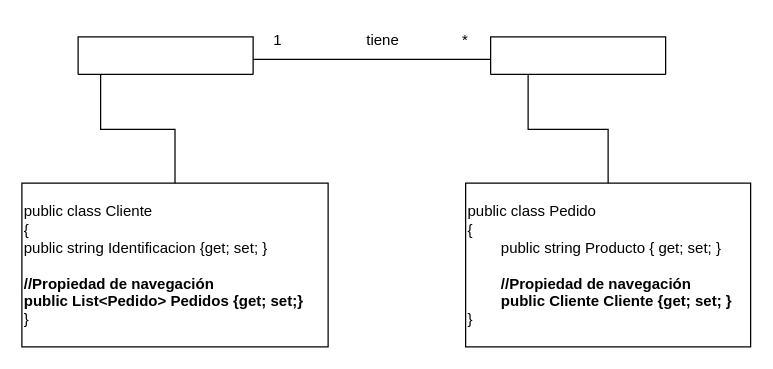
Image size: 773x369. Some labels were removed from this diagram. Here are the shapes that lost their labels. From the top down, the centre of each, then its label:
At point 165,55: "Cliente".
At point 577,55: "Pedido".
